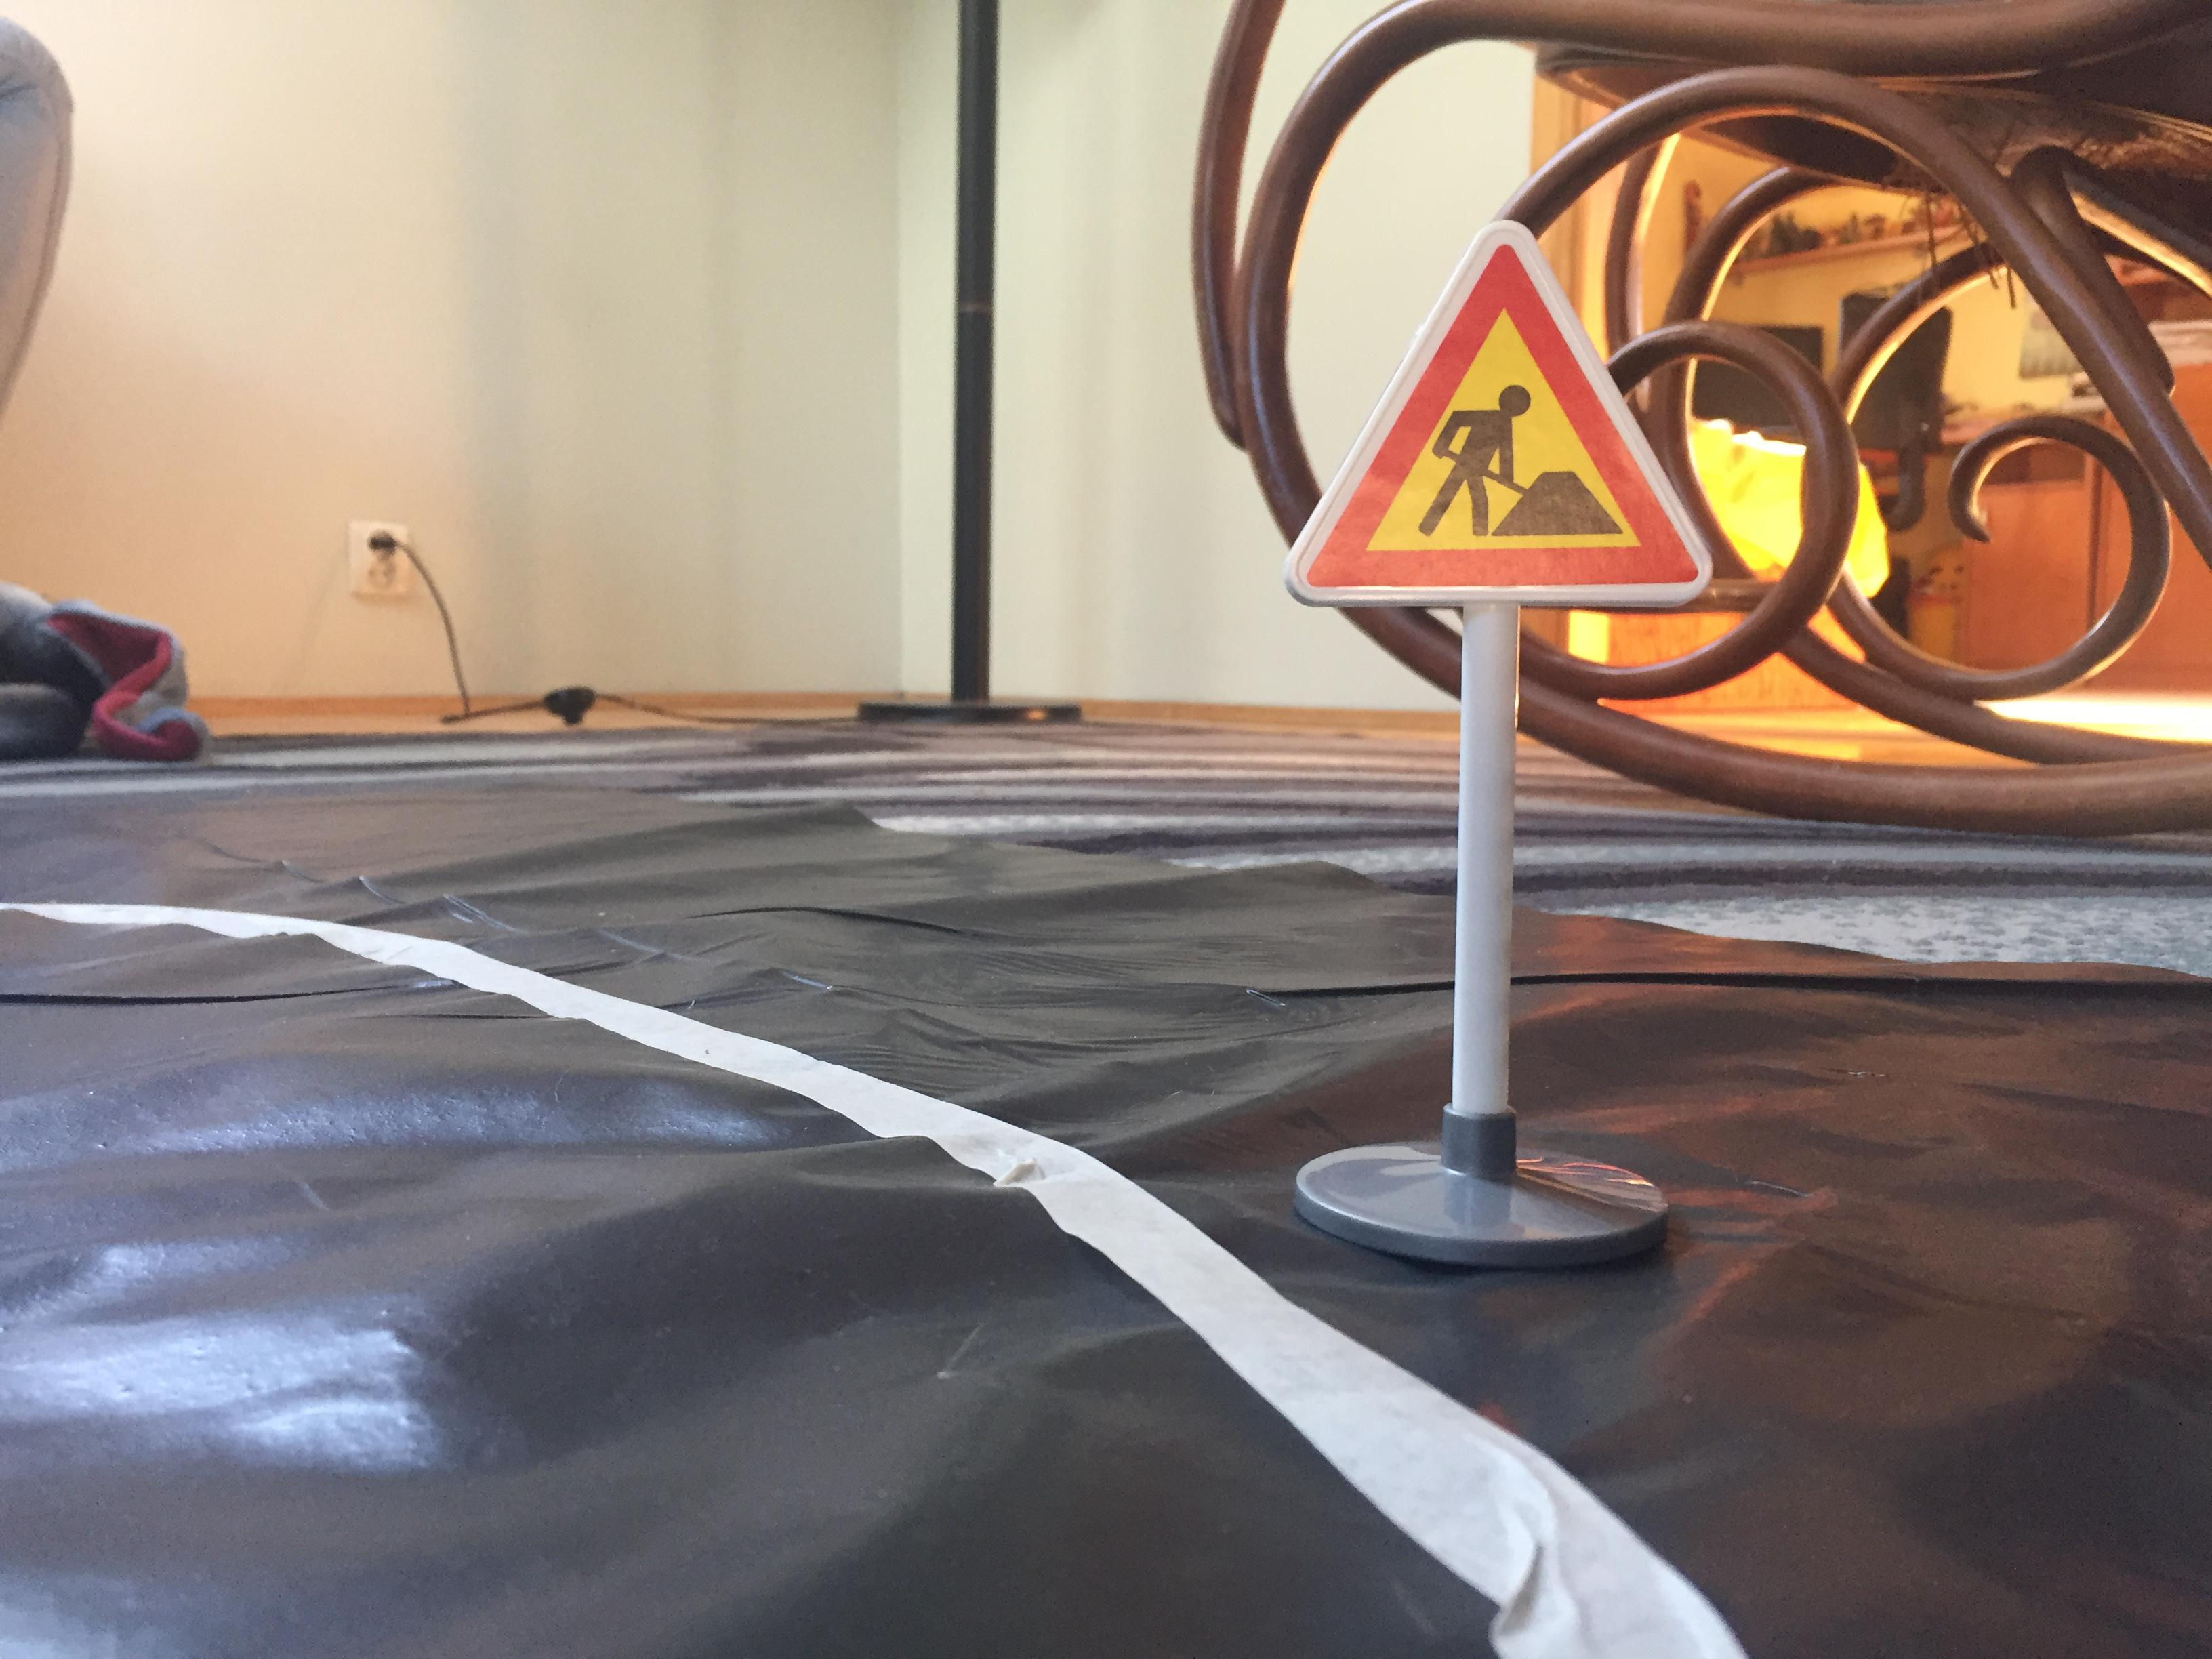work: (1277, 204, 1724, 633)
